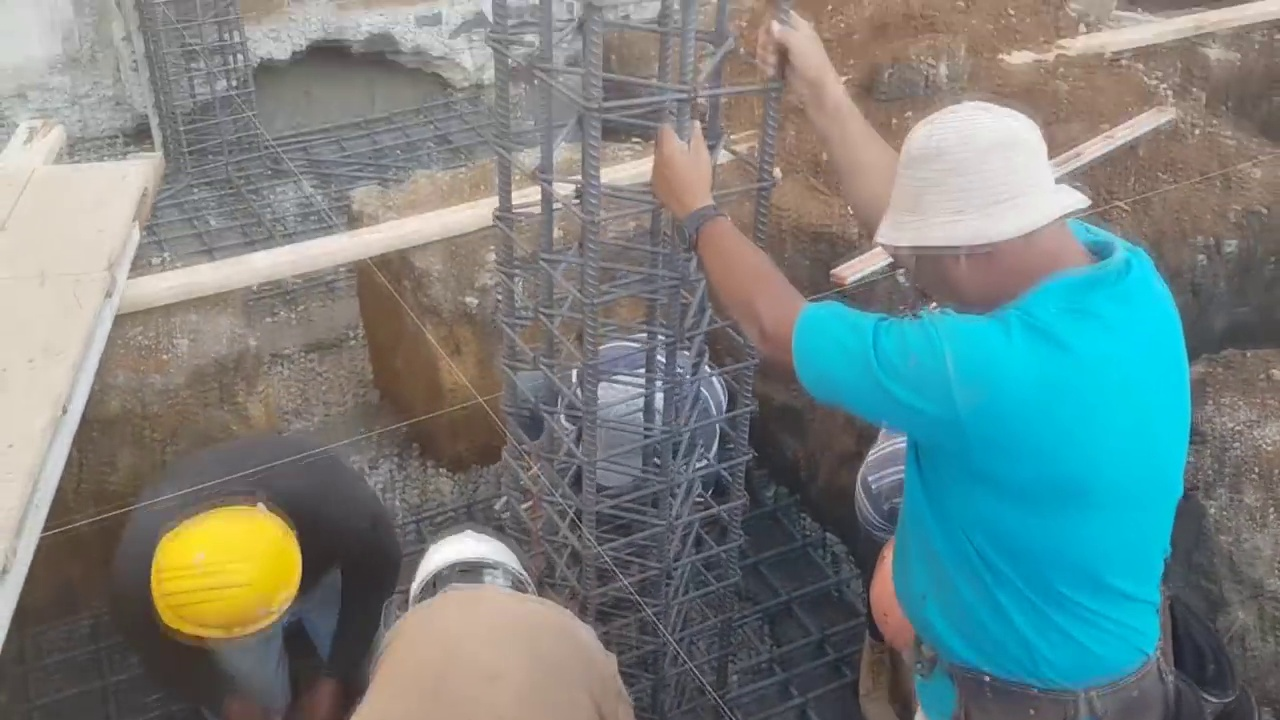helmet: (140, 515, 306, 648), (401, 537, 530, 608)
helmet-off: (876, 104, 1110, 312)
helmet-on: (133, 488, 314, 659), (396, 514, 537, 622)
person: (654, 12, 1200, 719), (110, 431, 396, 716), (350, 515, 640, 717)
